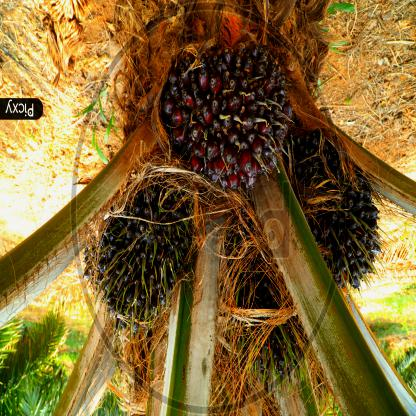1: (154, 46, 290, 186)
palm-oil: (290, 131, 384, 299), (91, 180, 189, 328), (231, 262, 308, 381)
